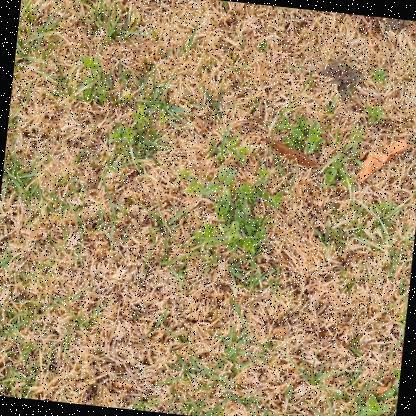Weeds: (173, 128, 290, 264), (106, 96, 168, 166), (271, 114, 327, 158), (74, 55, 115, 105), (318, 55, 365, 98), (321, 148, 358, 192), (357, 391, 394, 415), (365, 104, 388, 126), (371, 66, 389, 84)
